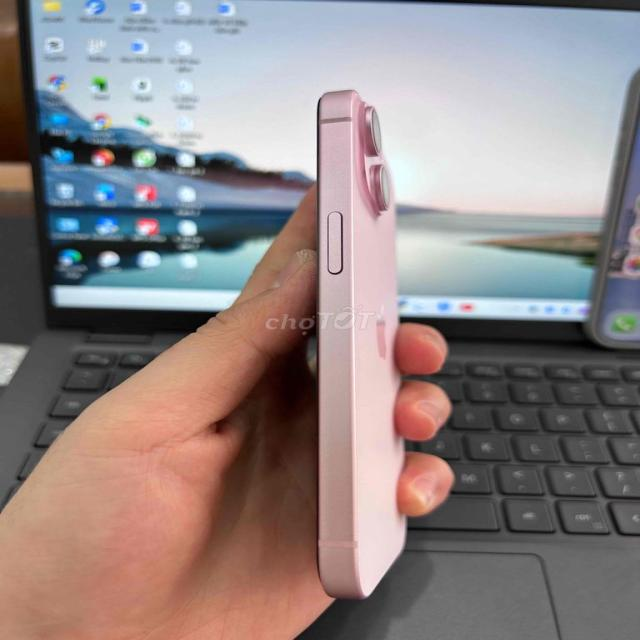gen_15: (273, 85, 439, 600)
